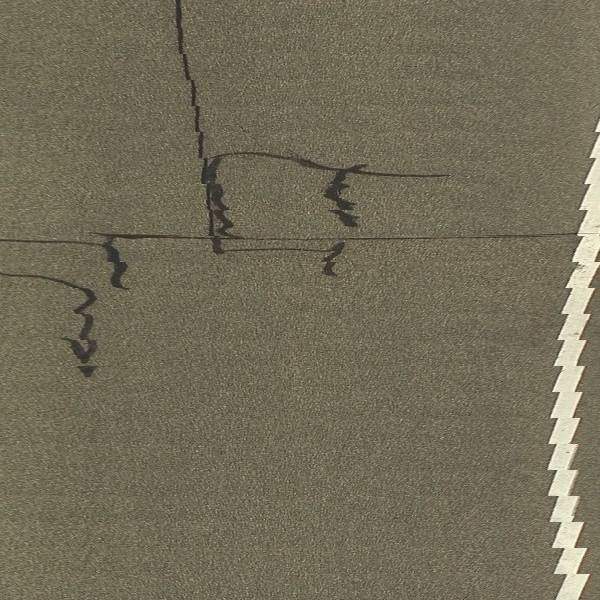road_damage: (188, 144, 375, 234), (105, 226, 575, 243), (64, 277, 105, 394)
